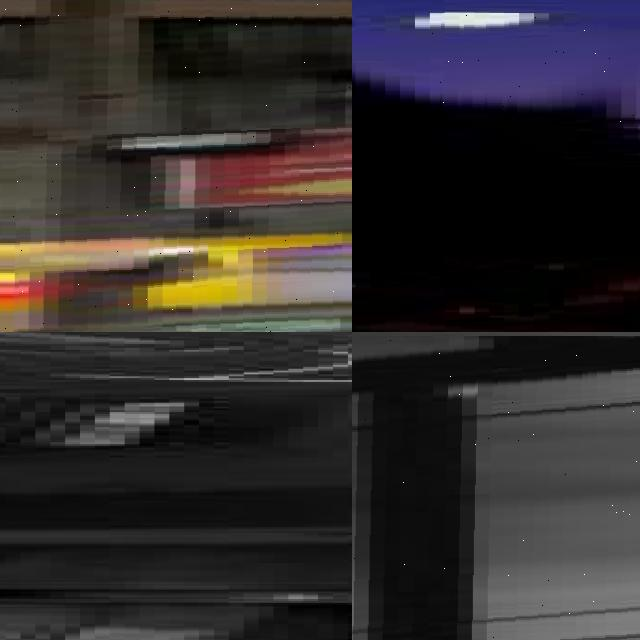street light: (0, 0, 352, 332), (352, 336, 640, 640), (429, 13, 640, 137)
